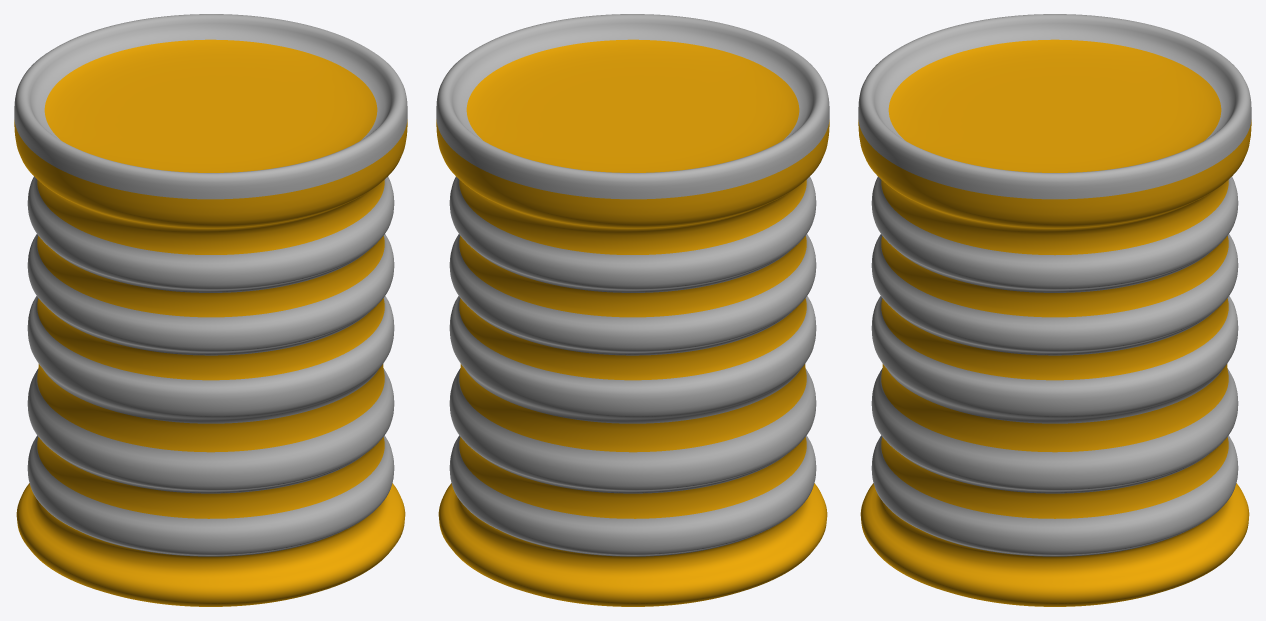
Rendered from Deco_TonelOrange.fbx.
3 views of the same model, side by side, from view 1: azimuth 30°, elevation 25°; view 2: azimuth 150°, elevation 25°; view 3: azimuth 270°, elevation 25° (orthographic).
Visible parts, largest first — view 1: Circle.002; view 2: Circle.002; view 3: Circle.002.
Boxes of the visible parts, <box> form: Circle.002: <box>14,14,407,606</box>; Circle.002: <box>436,14,829,606</box>; Circle.002: <box>858,14,1251,606</box>.
Bounding box in the file's own units: 99.58 × 99.58 × 123.
